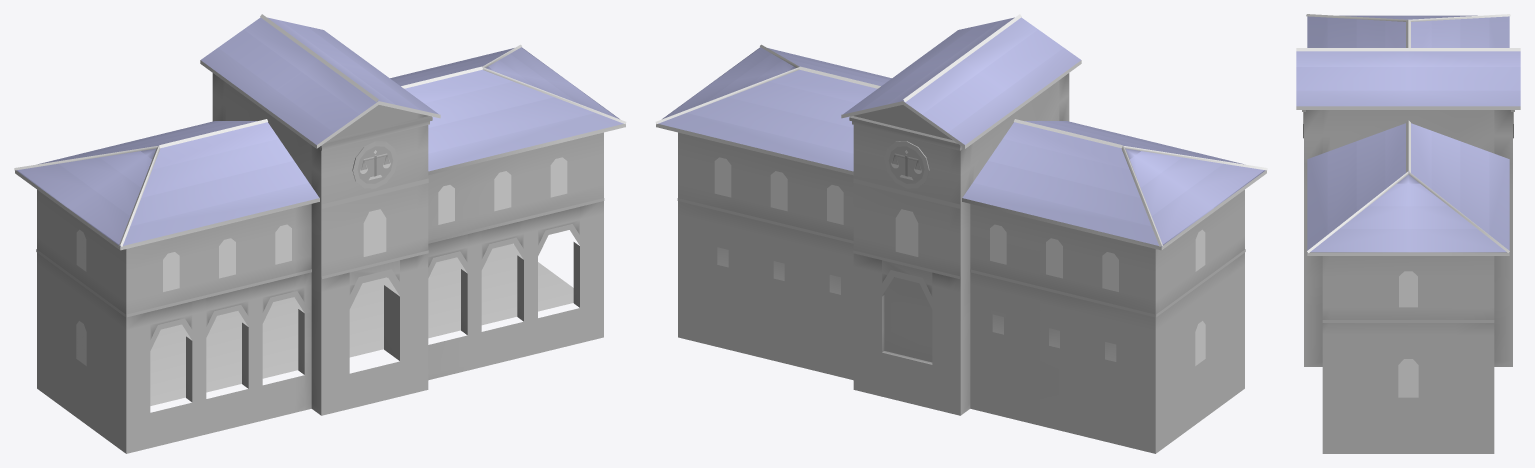
File: ex_shell_l1.glb
3 views of the same model, side by side, from view 1: azimuth 30°, elevation 25°; view 2: azimuth 150°, elevation 25°; view 3: azimuth 270°, elevation 25° (orthographic). The views are drawn at different scales.
Visible parts, largest first — view 1: ex_shell_l1_MC_Stone, ex_shell_l1_MC_Roof, ex_shell_l1_MC_Glass, ex_shell_l1_MC_Timber; view 2: ex_shell_l1_MC_Stone, ex_shell_l1_MC_Roof, ex_shell_l1_MC_Glass, ex_shell_l1_MC_Timber; view 3: ex_shell_l1_MC_Stone, ex_shell_l1_MC_Roof, ex_shell_l1_MC_Timber, ex_shell_l1_MC_Glass.
Part boxes in pixels (x1,y1,x2,y2): ex_shell_l1_MC_Stone: [36, 73, 604, 453]; ex_shell_l1_MC_Roof: [14, 14, 626, 246]; ex_shell_l1_MC_Glass: [76, 150, 567, 365]; ex_shell_l1_MC_Timber: [15, 60, 625, 250]; ex_shell_l1_MC_Stone: [677, 73, 1245, 453]; ex_shell_l1_MC_Roof: [655, 14, 1267, 246]; ex_shell_l1_MC_Glass: [714, 150, 1205, 365]; ex_shell_l1_MC_Timber: [656, 60, 1266, 250]; ex_shell_l1_MC_Stone: [1302, 110, 1514, 453]; ex_shell_l1_MC_Roof: [1296, 14, 1520, 252]; ex_shell_l1_MC_Timber: [1296, 106, 1520, 255]; ex_shell_l1_MC_Glass: [1398, 271, 1418, 397].
Size of the model in its own units: 36.17 by 20.84 by 14.4.
